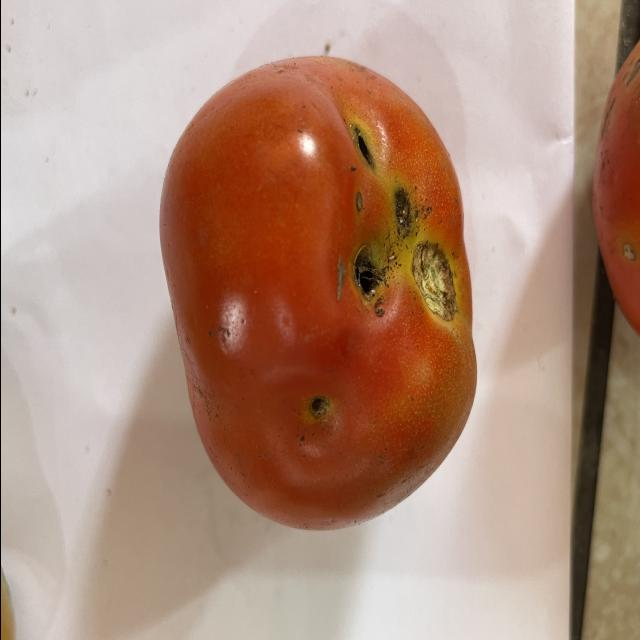fruitworm_bore: (344, 250, 394, 316), (344, 105, 385, 173), (392, 179, 428, 240), (303, 386, 337, 426)
